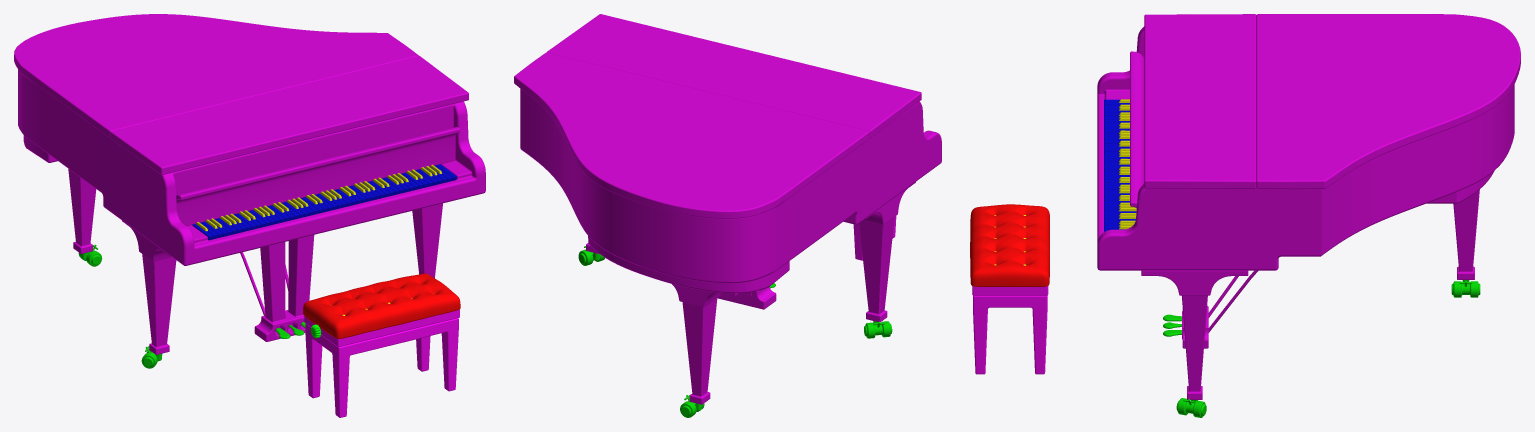
File: grand piano.fbx
3 views of the same model, side by side, from view 1: azimuth 30°, elevation 25°; view 2: azimuth 150°, elevation 25°; view 3: azimuth 270°, elevation 25° (orthographic). The views are drawn at different scales.
Parts seen in each view (by area): view 1: ؛هشىخ, Bench.001; view 2: ؛هشىخ; view 3: ؛هشىخ, Bench.001.
Part boxes in pixels (x1,y1,x2,y2): ؛هشىخ: (14, 14, 485, 368); Bench.001: (303, 273, 460, 417); ؛هشىخ: (514, 14, 941, 417); ؛هشىخ: (1097, 14, 1520, 417); Bench.001: (970, 204, 1049, 374).
Size of the model in its own units: 154 by 104 by 213.
